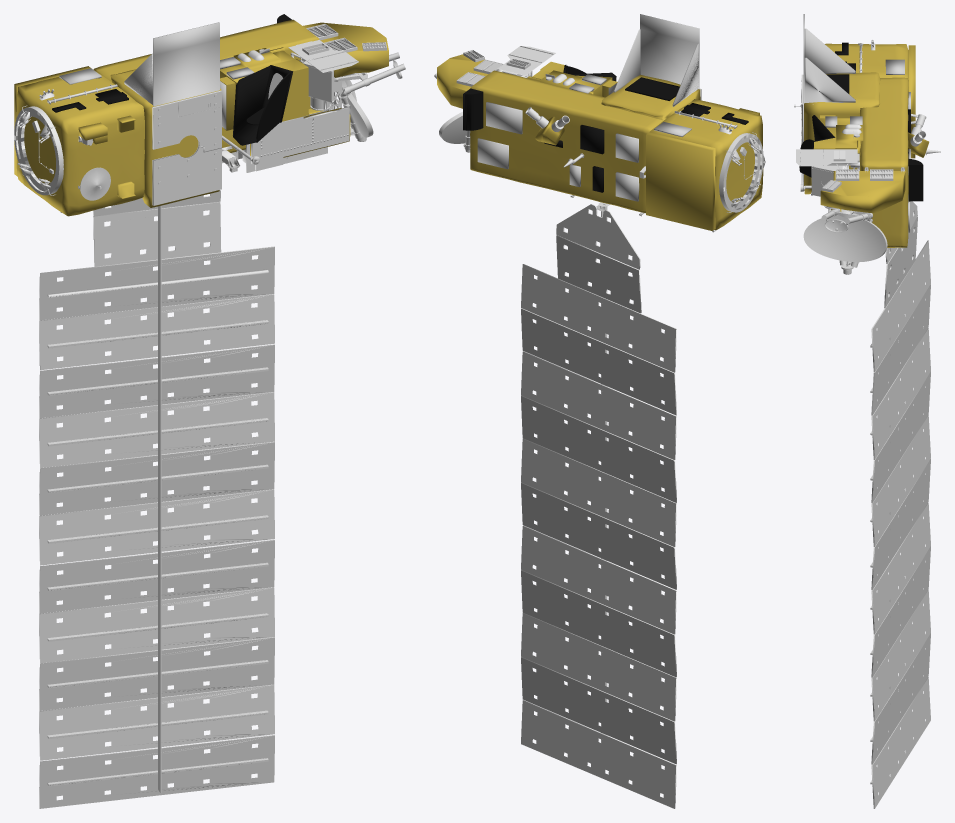
The picture shows the model from 3 angles, left to right: view 1: azimuth 30°, elevation 25°; view 2: azimuth 150°, elevation 25°; view 3: azimuth 270°, elevation 25°; orthographic projection. The views are drawn at different scales.
Visible parts, largest first — view 1: tex_01b, foil_gold, tex_01c, shiny_panel, tex_01, foil_silver, black_krinkle, tex_01d; view 2: shiny_panel, foil_gold, foil_silver, tex_01b, black_krinkle, tex_01, tex_01c; view 3: shiny_panel, foil_gold, tex_01, foil_silver, tex_01b, black_krinkle, tex_01d, tex_01c.
Part boxes in pixels (left/top/right/bottom): tex_01b: left=39, top=91, right=339, bottom=808; foil_gold: left=14, top=19, right=388, bottom=216; tex_01c: left=14, top=81, right=238, bottom=212; shiny_panel: left=39, top=246, right=274, bottom=808; tex_01: left=222, top=24, right=402, bottom=172; foil_silver: left=59, top=22, right=254, bottom=106; black_krinkle: left=52, top=14, right=293, bottom=145; tex_01d: left=290, top=52, right=405, bottom=141; shiny_panel: left=521, top=264, right=676, bottom=808; foil_gold: left=437, top=54, right=763, bottom=230; foil_silver: left=477, top=14, right=699, bottom=201; tex_01b: left=532, top=202, right=664, bottom=798; black_krinkle: left=463, top=65, right=748, bottom=192; tex_01: left=439, top=46, right=574, bottom=195; tex_01c: left=559, top=83, right=765, bottom=232; shiny_panel: left=871, top=240, right=930, bottom=808; foil_gold: left=804, top=43, right=929, bottom=247; tex_01: left=796, top=115, right=926, bottom=262; foil_silver: left=803, top=14, right=910, bottom=232; tex_01b: left=856, top=201, right=926, bottom=796; black_krinkle: left=799, top=42, right=923, bottom=201; tex_01d: left=813, top=163, right=872, bottom=274; tex_01c: left=794, top=39, right=940, bottom=191.
Bounding box in the file's own units: 8.73 × 18.7 × 3.43.
